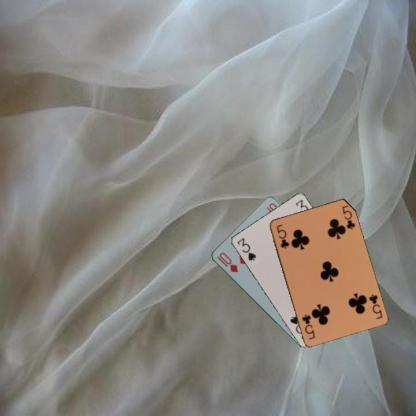10d: (214, 249, 238, 274)
3s: (234, 235, 257, 262)
5c: (366, 291, 383, 320), (274, 222, 290, 249)
